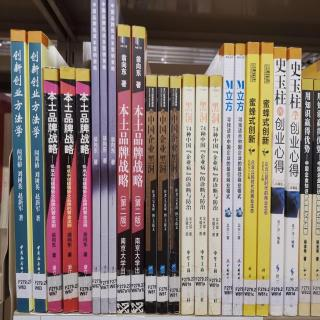book-spine: (10, 30, 32, 312), (27, 30, 47, 313), (40, 68, 63, 314), (241, 42, 260, 316), (73, 69, 94, 314), (59, 65, 79, 313), (229, 45, 247, 317), (256, 43, 274, 315), (268, 47, 286, 316), (284, 47, 302, 316), (116, 22, 132, 314), (129, 27, 144, 315), (193, 75, 210, 317), (142, 76, 159, 317), (97, 1, 110, 314), (165, 76, 182, 314), (298, 78, 314, 317), (90, 1, 102, 316), (106, 3, 118, 314), (181, 74, 196, 315), (221, 44, 234, 314), (208, 77, 222, 316), (156, 75, 169, 314)
